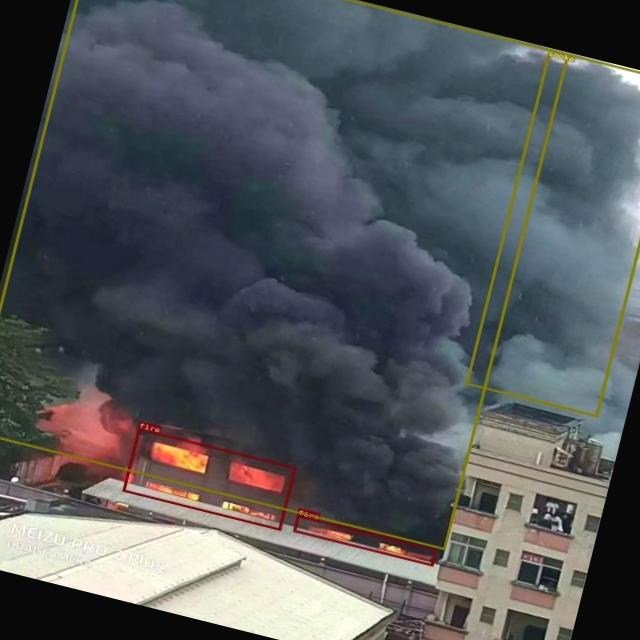fire: (122, 427, 296, 530), (292, 514, 436, 565)
smoke: (0, 0, 568, 549), (465, 48, 640, 416)
